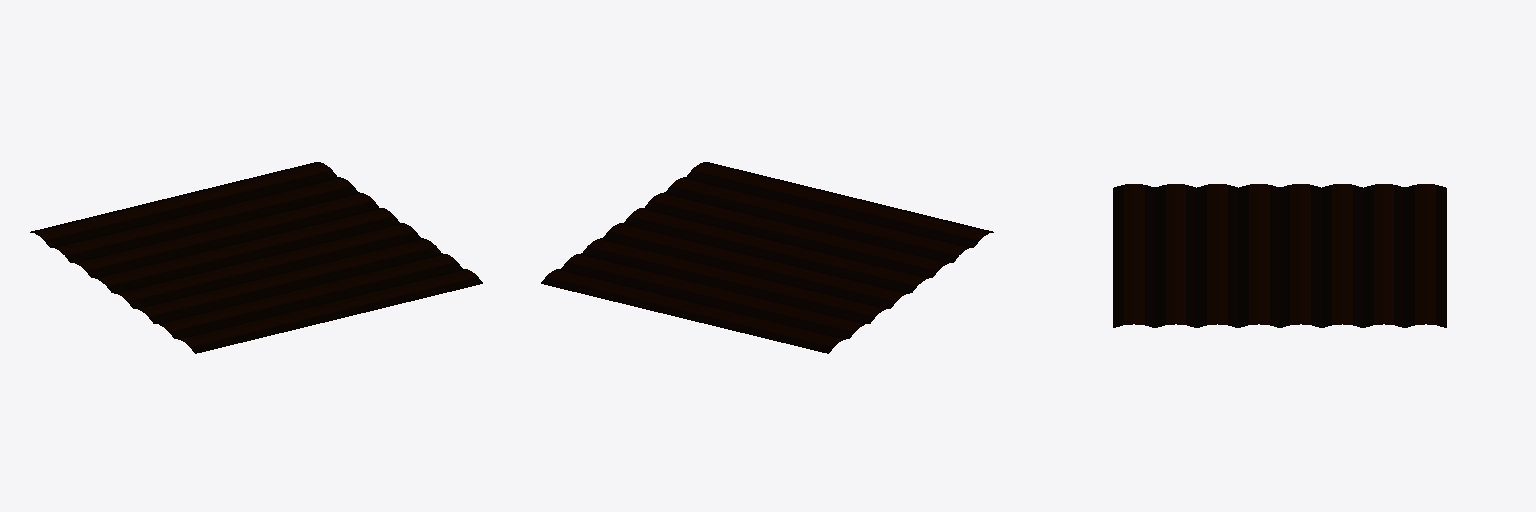
Rendered from TilledEarth.obj.
The picture shows the model from 3 angles: view 1: azimuth 30°, elevation 25°; view 2: azimuth 150°, elevation 25°; view 3: azimuth 270°, elevation 25°; orthographic projection.
Parts seen in each view (by area): view 1: Plane; view 2: Plane; view 3: Plane.
Part boxes in pixels (bbox=[...]): Plane: bbox=[30, 162, 482, 353]; Plane: bbox=[541, 162, 993, 353]; Plane: bbox=[1113, 184, 1446, 327].
Size of the model in its own units: 8 by 0.1035 by 8.